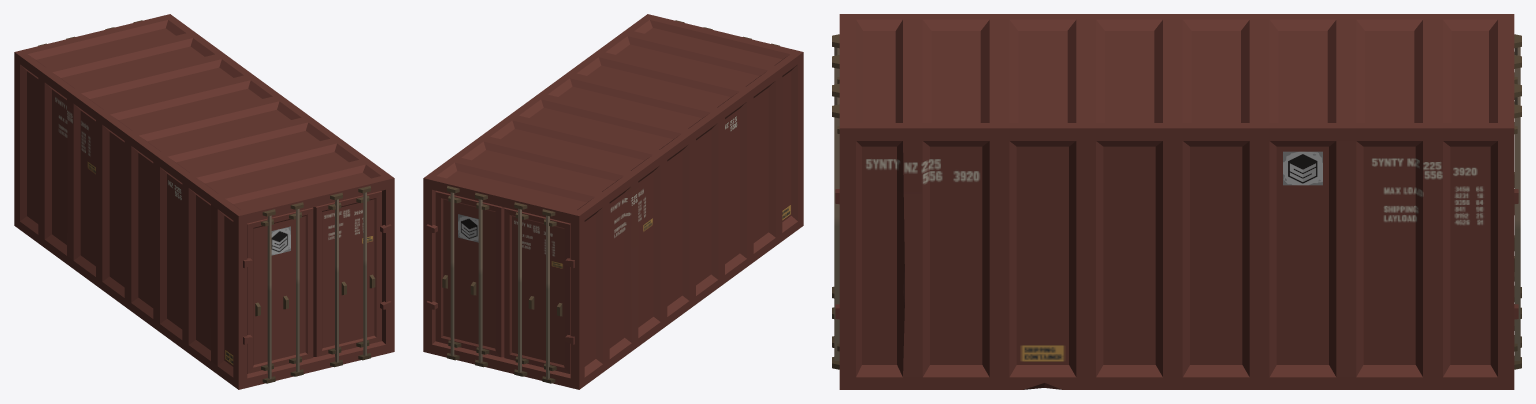
File: SM_Prop_Shipping_Container_01.glb
3 renders of one model, left to right at view 1: azimuth 30°, elevation 25°; view 2: azimuth 150°, elevation 25°; view 3: azimuth 270°, elevation 25°, orthographic. The views are drawn at different scales.
Visible parts, largest first — view 1: SM_Prop_Shipping_Container_01; view 2: SM_Prop_Shipping_Container_01; view 3: SM_Prop_Shipping_Container_01.
Part boxes in pixels (x1,y1,x2,y2): SM_Prop_Shipping_Container_01: (14, 14, 394, 389); SM_Prop_Shipping_Container_01: (423, 14, 803, 389); SM_Prop_Shipping_Container_01: (832, 14, 1521, 389).
Bounding box in the file's own units: 2.45 × 2.59 × 6.19.
Materials: 1 (1 with a texture image).
